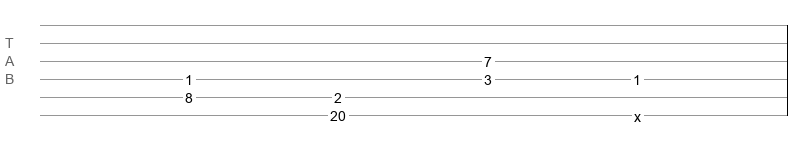1: (185, 72, 193, 82), (633, 72, 641, 82)
2: (334, 90, 342, 100)
20: (330, 108, 346, 118)
3: (484, 72, 492, 82)
7: (484, 54, 492, 64)
8: (185, 90, 193, 100)
x: (634, 109, 641, 117)
